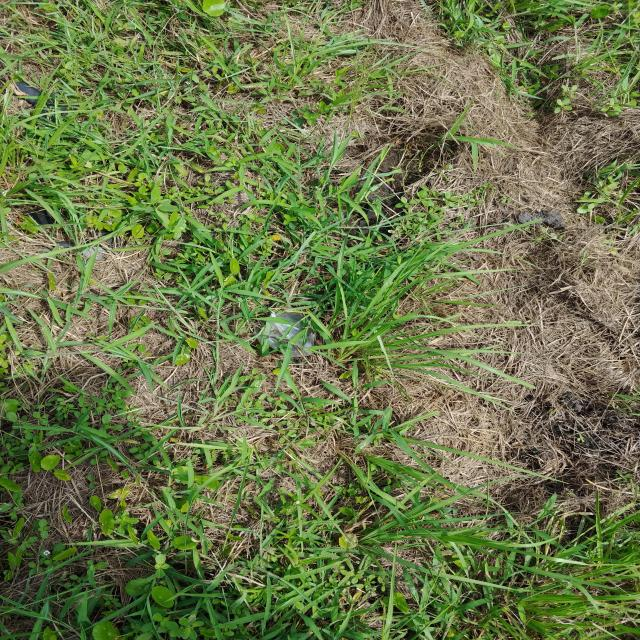litter: (254, 313, 314, 357)
